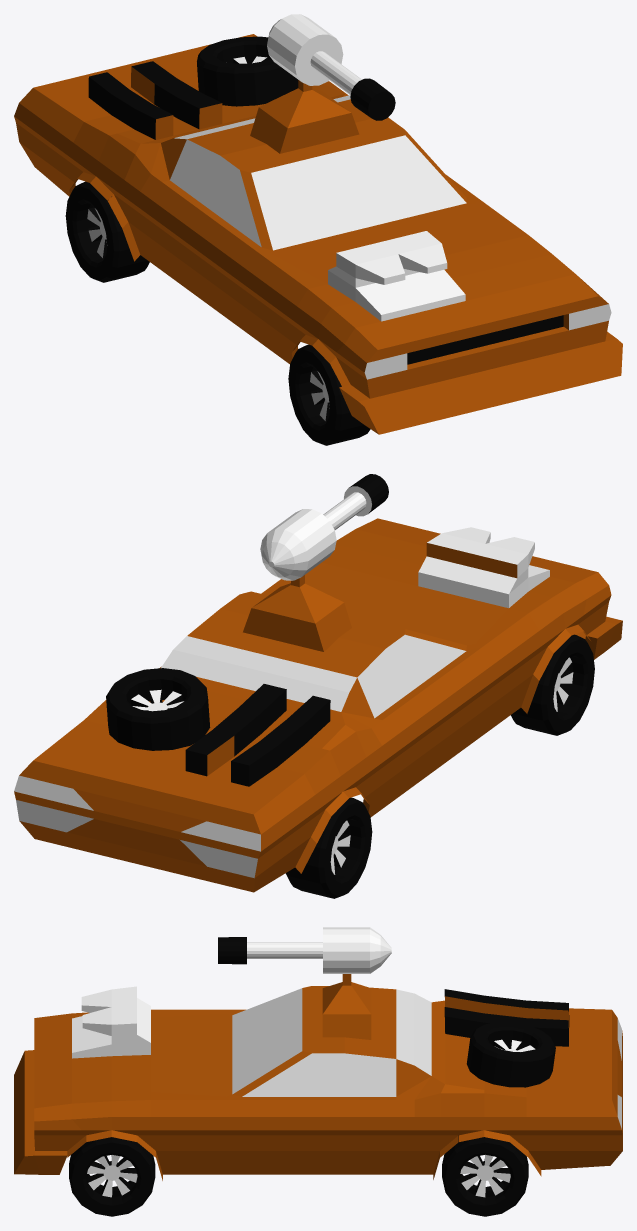
File: CarV3.fbx
3 views of the same model, one above another, from view 1: azimuth 30°, elevation 25°; view 2: azimuth 150°, elevation 25°; view 3: azimuth 270°, elevation 25° (orthographic). The views are drawn at different scales.
Visible parts, largest first — view 1: Car Main, Turret, Wheel4, Wheel2; view 2: Car Main, Turret, Wheel4, Wheel2; view 3: Car Main, Wheel3, Wheel1, Turret.
Boxes of the visible parts, x1,y1,x2,y2 form: Car Main: (14, 34, 622, 434); Turret: (267, 14, 395, 120); Wheel4: (65, 181, 149, 282); Wheel2: (288, 344, 370, 445); Car Main: (14, 518, 622, 892); Turret: (260, 474, 388, 580); Wheel4: (285, 797, 372, 898); Wheel2: (511, 634, 594, 735); Car Main: (14, 974, 622, 1180); Wheel3: (442, 1135, 528, 1216); Wheel1: (69, 1137, 155, 1216); Turret: (218, 927, 391, 973).
Size of the model in its own units: 137 by 143 by 332.
